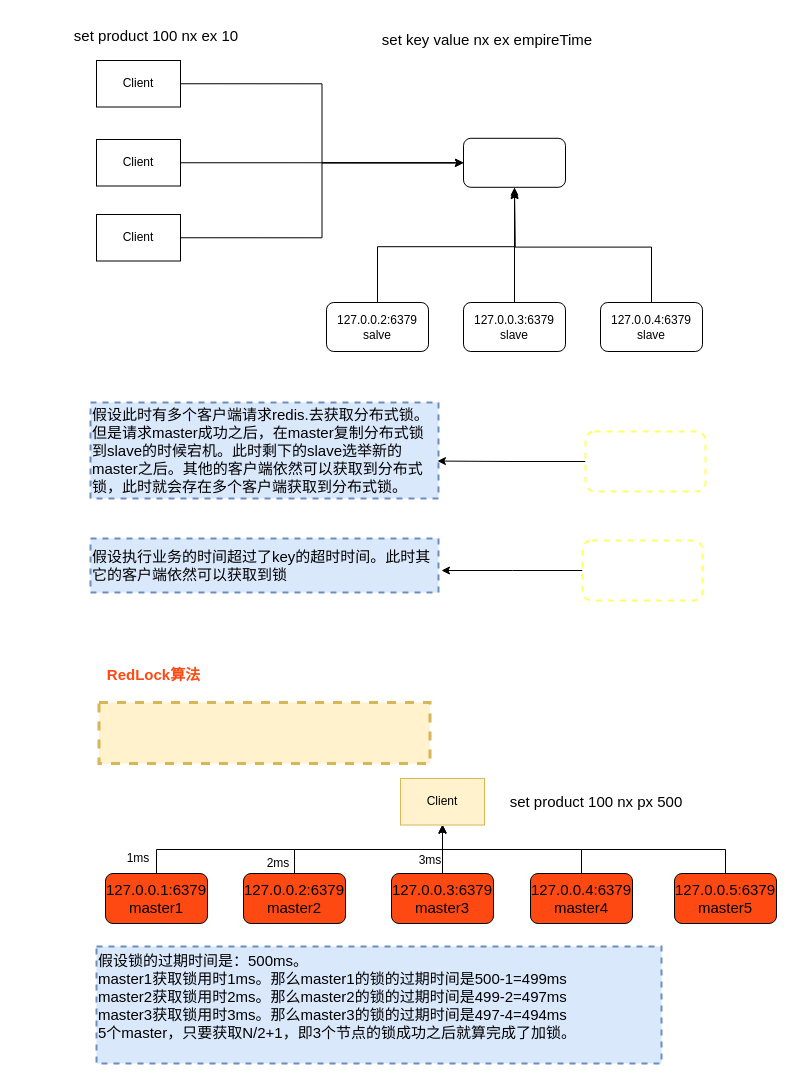
Some shapes in this 794 by 1089 pixel diagram are drawn without their labels. Here are the shapes that lost their labels. From the top down, the centre of each, then its label:
At point 514,162: "127.0.0.1:6379 master".
At point 645,461: "单点故障".
At point 642,570: "执行时间超过了锁的过期时间".
At point 264,732: "针对单点问题，可以使用多个master节点，并且多个master节点之间数据独立，没有数据的同步".
